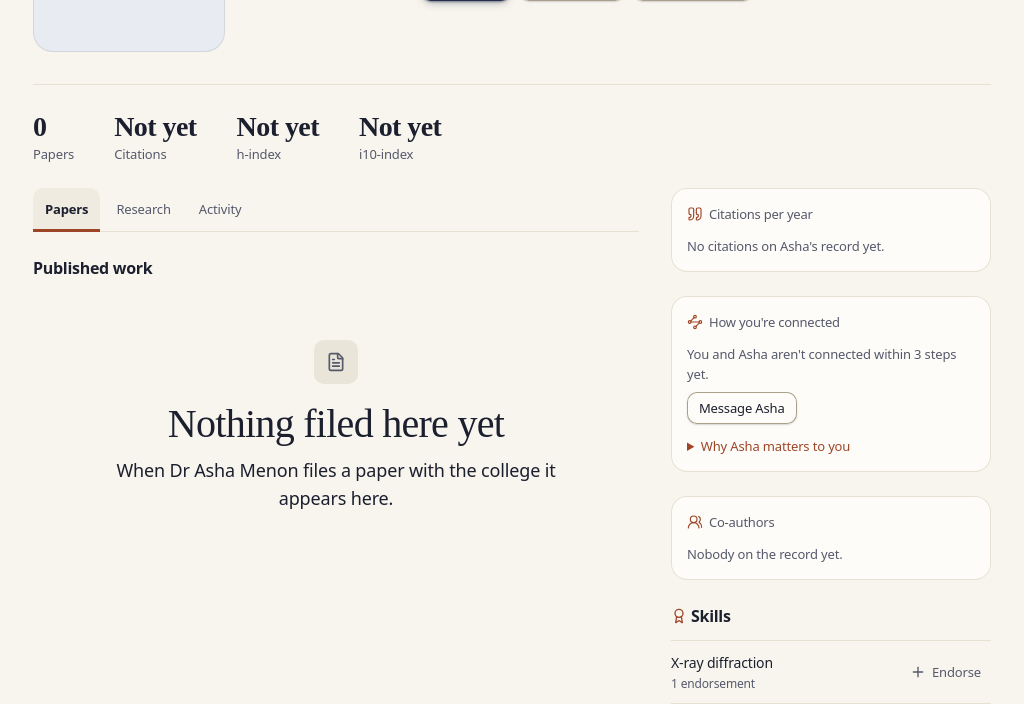
Test case: your own profile › lets a colleague endorse a skill at once
The image size is (1024, 704).
(page scrolled)
What coordinates should you click on to do the following:
click the button "Endorse"
I would click on:
 (946, 672)
Its box is [900,656,991,688].
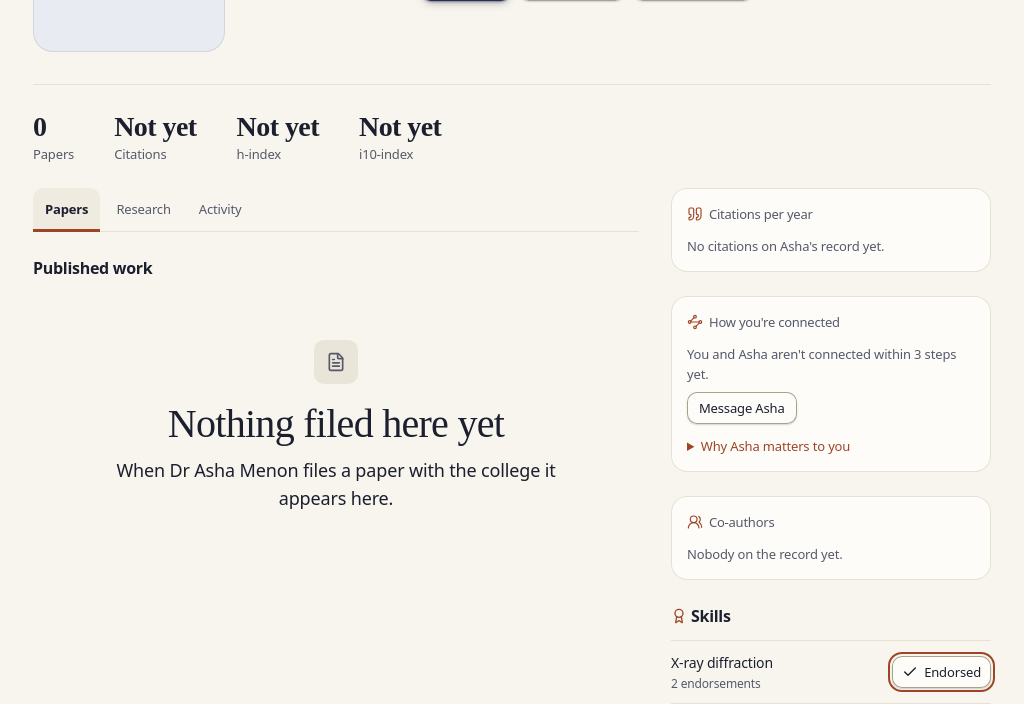
Expected: the button "Endorsed" is shown, [892,656,991,688]
Expected: the text "2 endorsements" is shown, [671,675,761,692]
